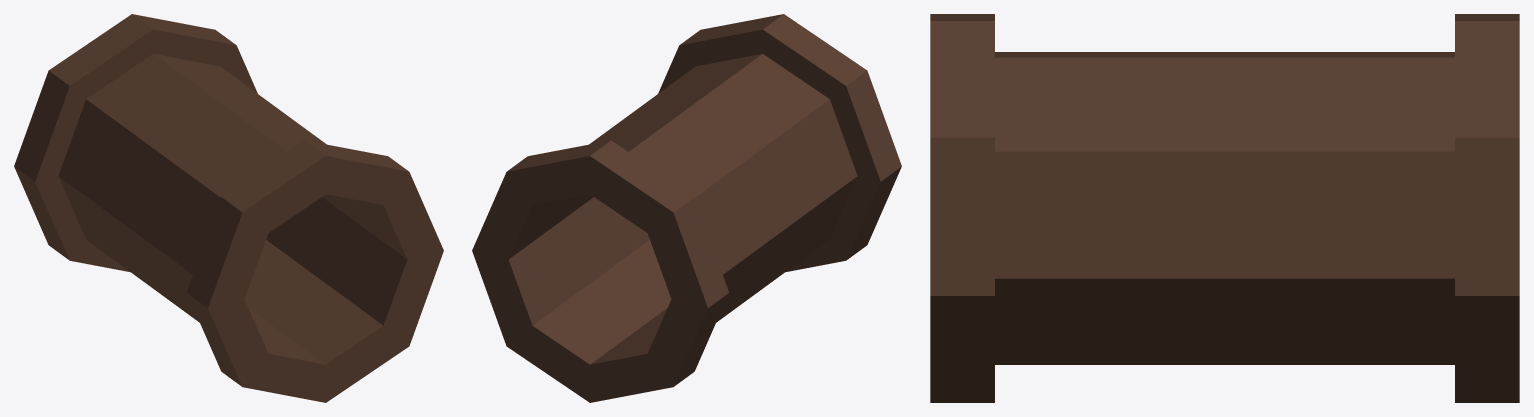
Rendered from Pipeline2.fbx.
The picture shows the model from 3 angles, left to right: view 1: azimuth 30°, elevation 25°; view 2: azimuth 150°, elevation 25°; view 3: azimuth 270°, elevation 25°; orthographic projection. The views are drawn at different scales.
Parts seen in each view (by area): view 1: Circle.008; view 2: Circle.008; view 3: Circle.008.
Boxes of the visible parts, x1,y1,x2,y2 form: Circle.008: [14, 14, 443, 402]; Circle.008: [472, 14, 901, 402]; Circle.008: [930, 14, 1519, 402].
Bounding box in the file's own units: 0.6482 × 0.6482 × 0.9224.
